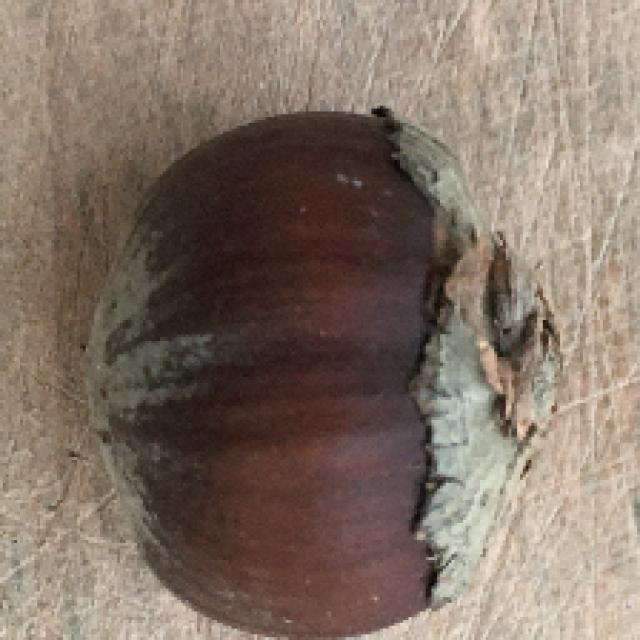damagedHazelnut: (69, 78, 550, 640)
